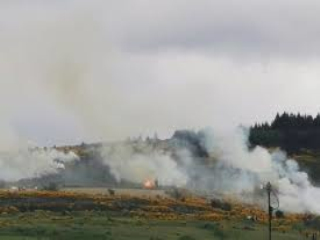fire: (143, 179, 155, 191)
smoke: (204, 125, 315, 213), (4, 129, 80, 185), (96, 137, 185, 178)
